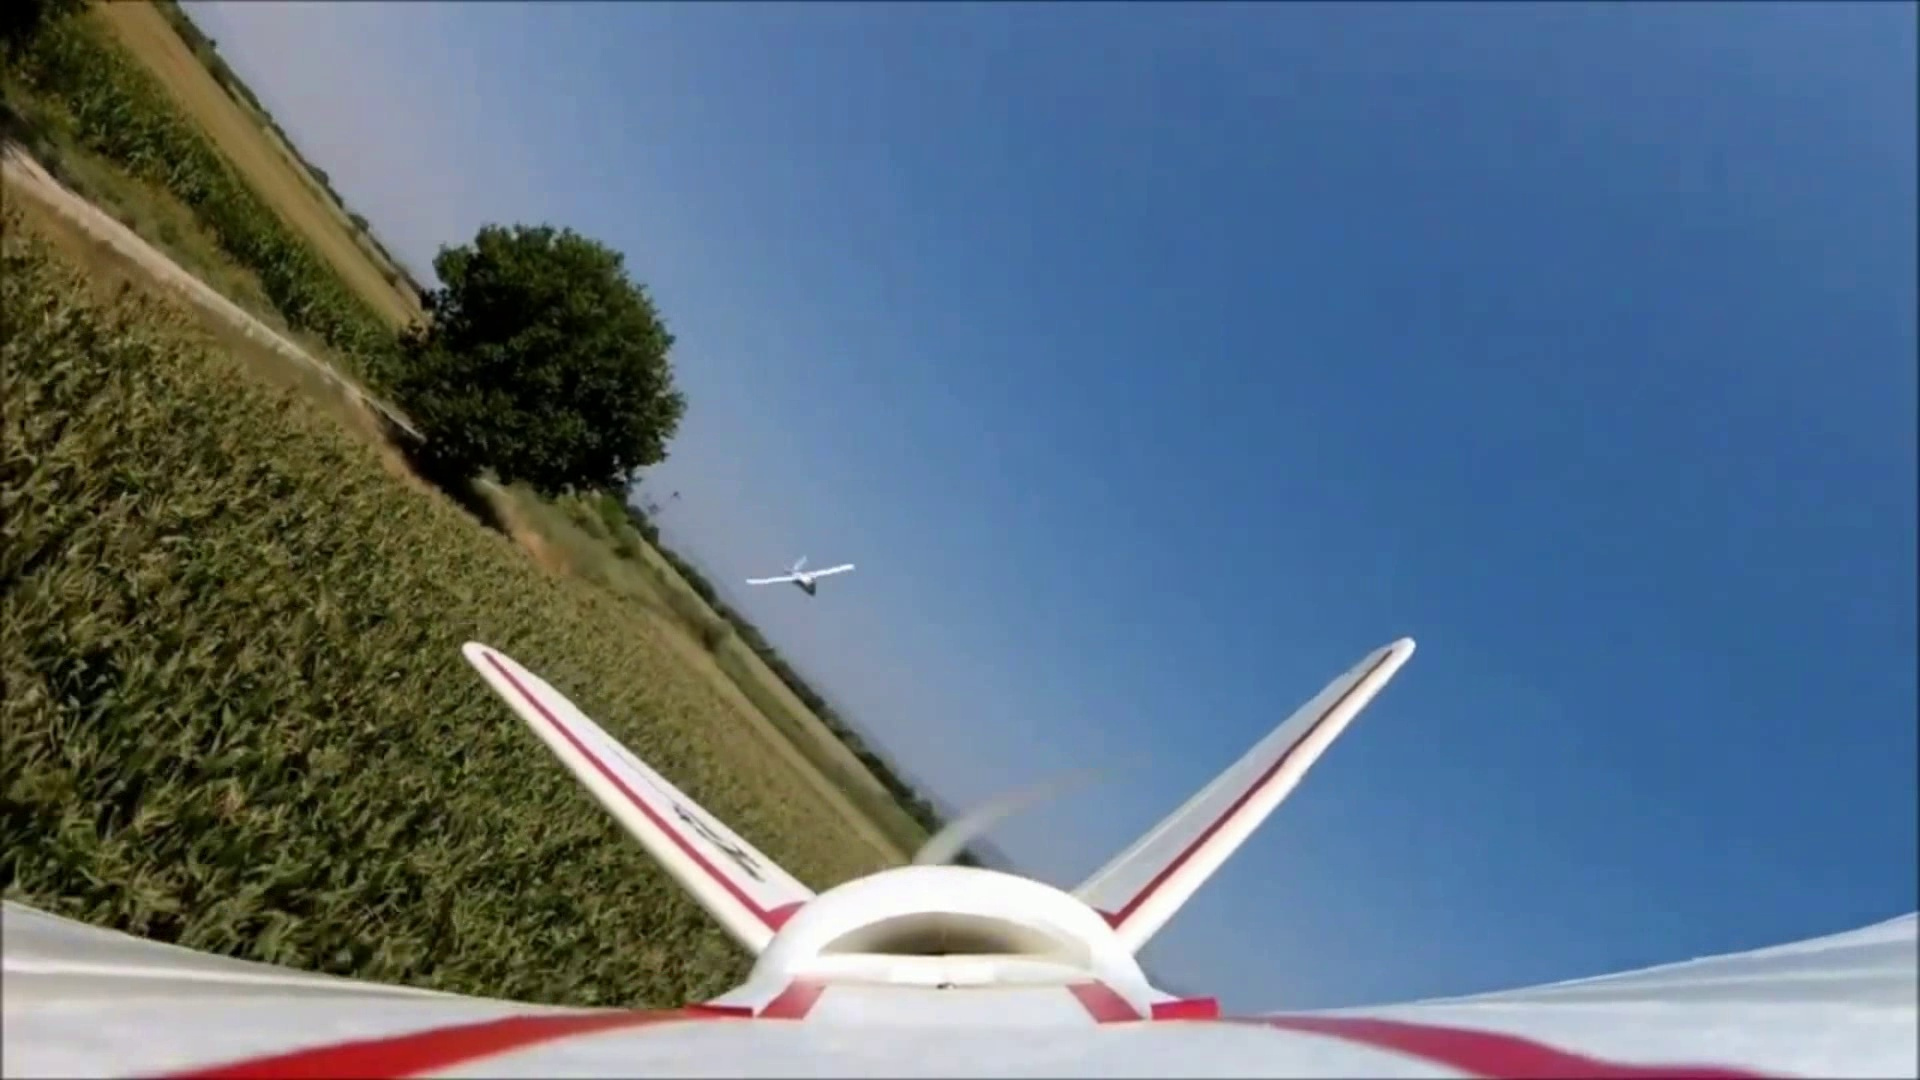airplane: (744, 556, 855, 595)
